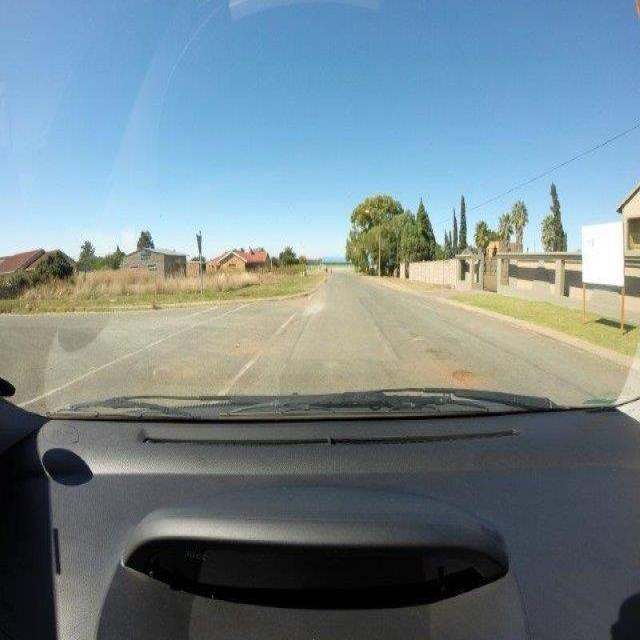lubang: (447, 358, 482, 384), (421, 345, 458, 361), (408, 328, 428, 345)
